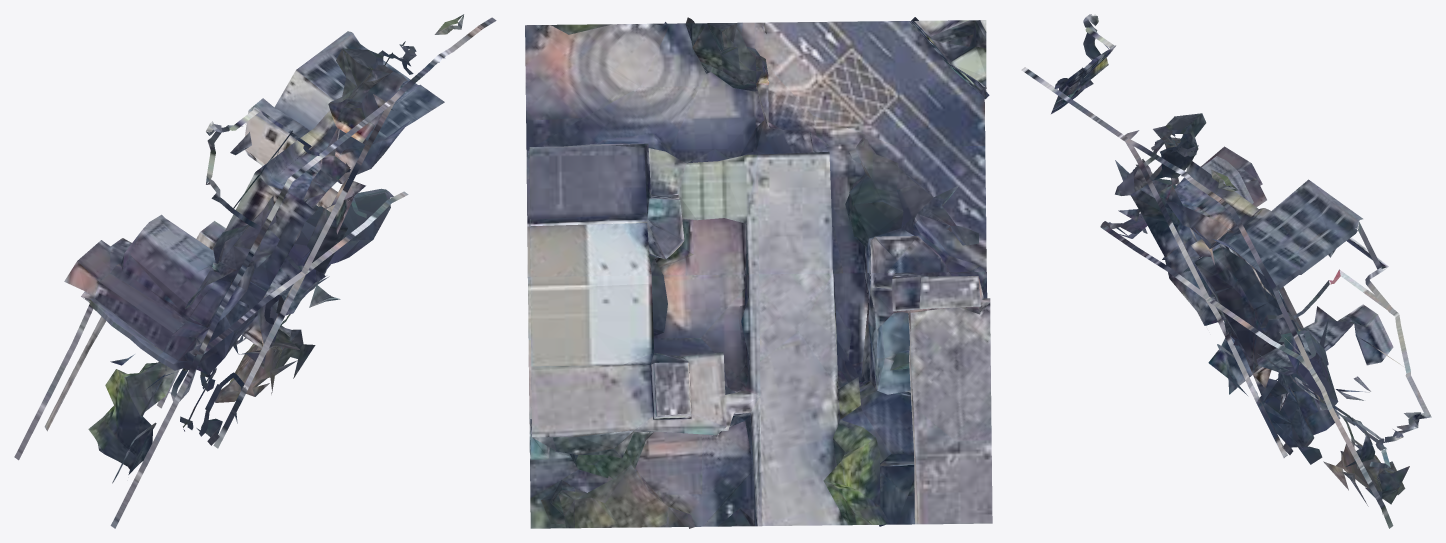
3 renders of one model, left to right at view 1: azimuth 30°, elevation 25°; view 2: azimuth 150°, elevation 25°; view 3: azimuth 270°, elevation 25°, orthographic. The views are drawn at different scales.
Bounding box in the file's own units: 85.59 × 75.93 × 71.62.
Materials: 1 (1 with a texture image).
